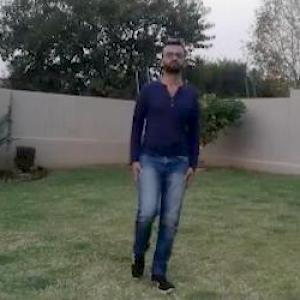follow: (126, 30, 202, 286)
